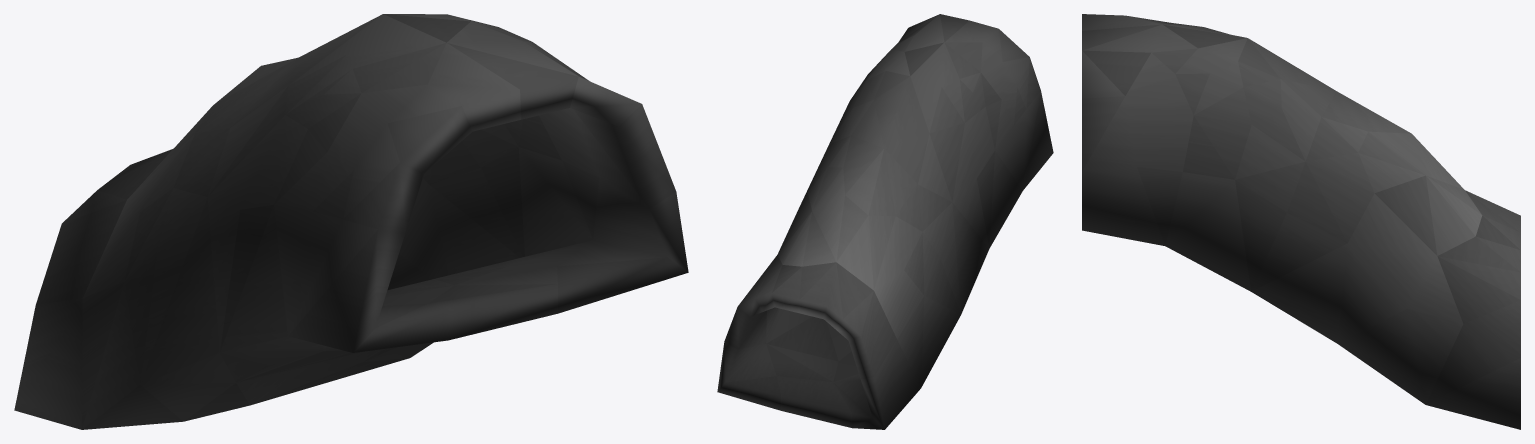
The model's file is GL-Cave-part-04.fbx.
3 renders of one model, left to right at view 1: azimuth 30°, elevation 25°; view 2: azimuth 150°, elevation 25°; view 3: azimuth 270°, elevation 25°, orthographic. The views are drawn at different scales.
Parts seen in each view (by area): view 1: GL-Cave-part-04; view 2: GL-Cave-part-04; view 3: GL-Cave-part-04.
Boxes of the visible parts, box(x1,y1,x2,y2) form: GL-Cave-part-04: box(14, 14, 688, 429); GL-Cave-part-04: box(717, 14, 1053, 429); GL-Cave-part-04: box(1082, 14, 1520, 429).
Size of the model in its own units: 3.6 by 5.33 by 6.
